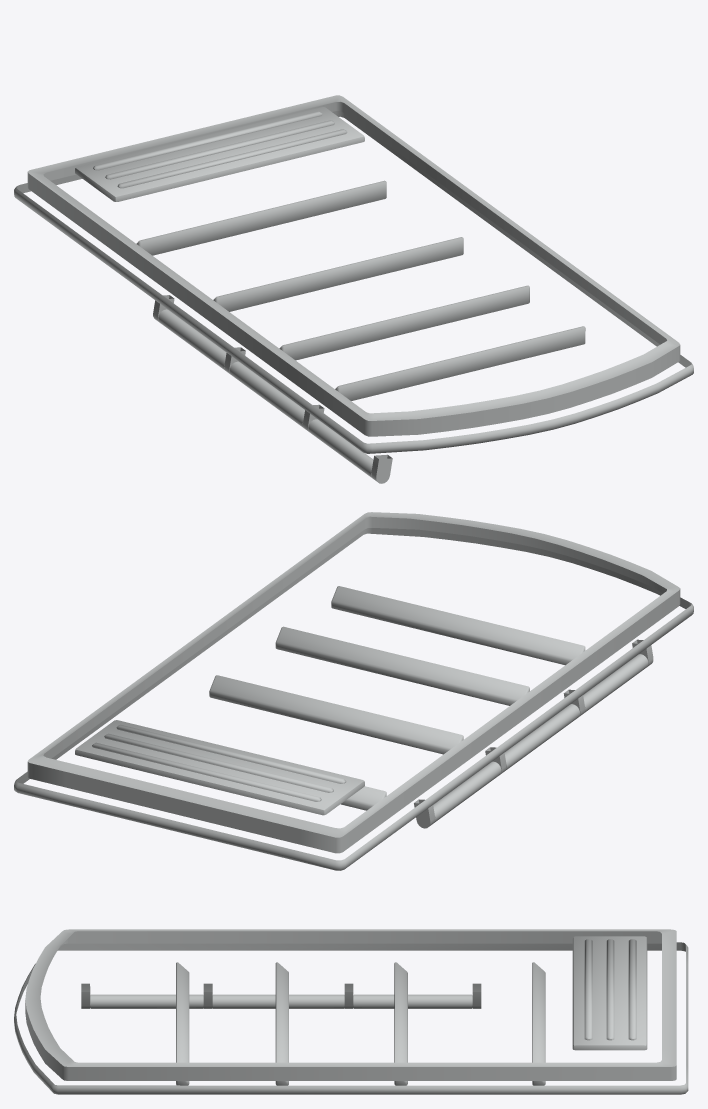
The model's file is MeshFridgeDoorE1_1_GeomSubset_1.obj.
The picture shows the model from 3 angles, top to bottom: view 1: azimuth 30°, elevation 25°; view 2: azimuth 150°, elevation 25°; view 3: azimuth 270°, elevation 25°; orthographic projection. The views are drawn at different scales.
Parts seen in each view (by area): view 1: MeshFridgeDoorE1_1_GeomSubset_1; view 2: MeshFridgeDoorE1_1_GeomSubset_1; view 3: MeshFridgeDoorE1_1_GeomSubset_1.
Part boxes in pixels (x1,y1,x2,y2): MeshFridgeDoorE1_1_GeomSubset_1: [14, 95, 693, 483]; MeshFridgeDoorE1_1_GeomSubset_1: [14, 512, 693, 870]; MeshFridgeDoorE1_1_GeomSubset_1: [14, 929, 688, 1094].
Bounding box in the file's own units: 0.8516 × 0.459 × 1.69.
